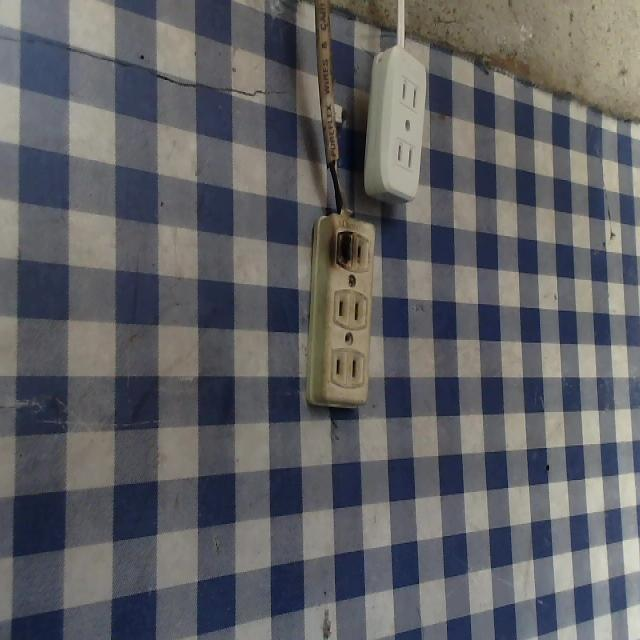-: (323, 224, 358, 277)
